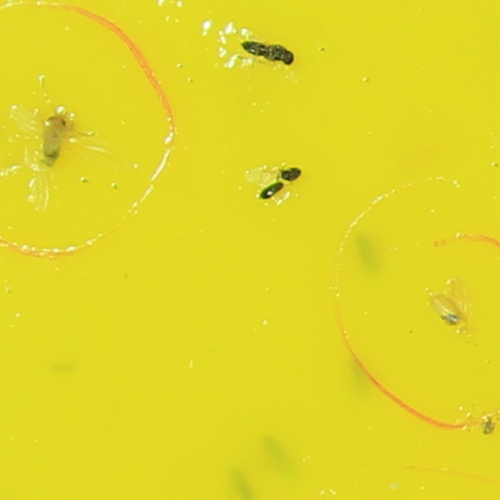Glycaspis: (32, 106, 75, 169)
